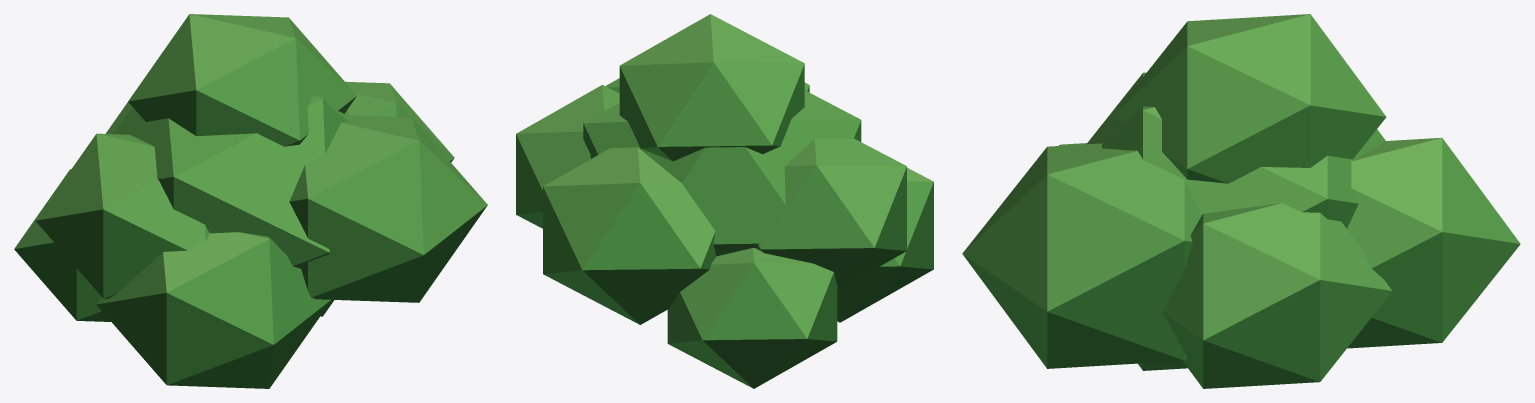
The model's file is TreeCanopy_2.glb.
The picture shows the model from 3 angles, left to right: view 1: azimuth 30°, elevation 25°; view 2: azimuth 150°, elevation 25°; view 3: azimuth 270°, elevation 25°; orthographic projection. The views are drawn at different scales.
Parts seen in each view (by area): view 1: TreeCanopy_2; view 2: TreeCanopy_2; view 3: TreeCanopy_2.
Part boxes in pixels (x1,y1,x2,y2): TreeCanopy_2: (14, 14, 487, 388); TreeCanopy_2: (516, 14, 933, 388); TreeCanopy_2: (962, 14, 1520, 388).
Size of the model in its own units: 10.77 by 7.97 by 11.37.
1 material, 1 textured.
